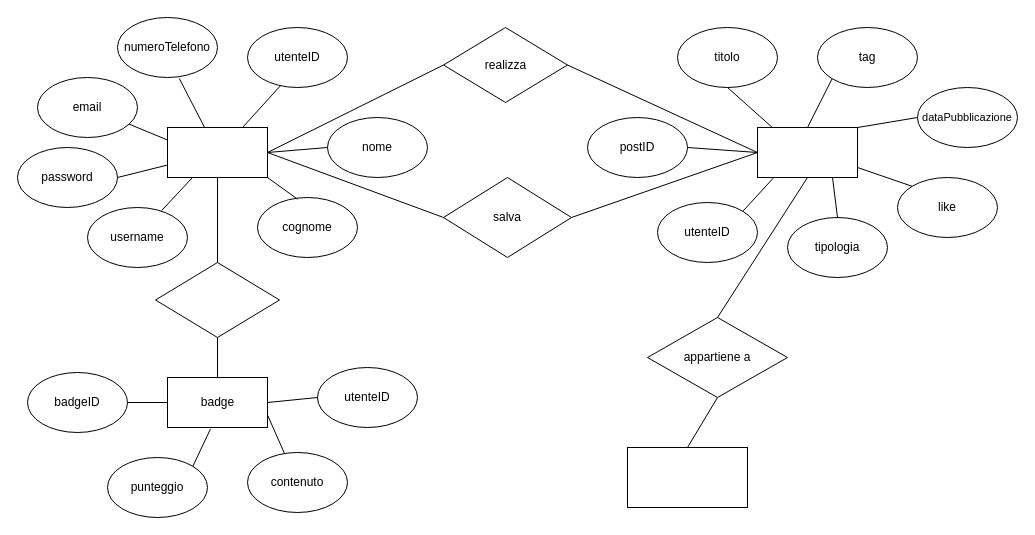
This 1035x535 diagram has some shape labels left out. Here are the shapes that lost their labels. From the top down, the centre of each, then its label:
At pixel 217 152: "utente".
At pixel 807 152: "post".
At pixel 217 300: "ottiene".
At pixel 687 477: "topic".
